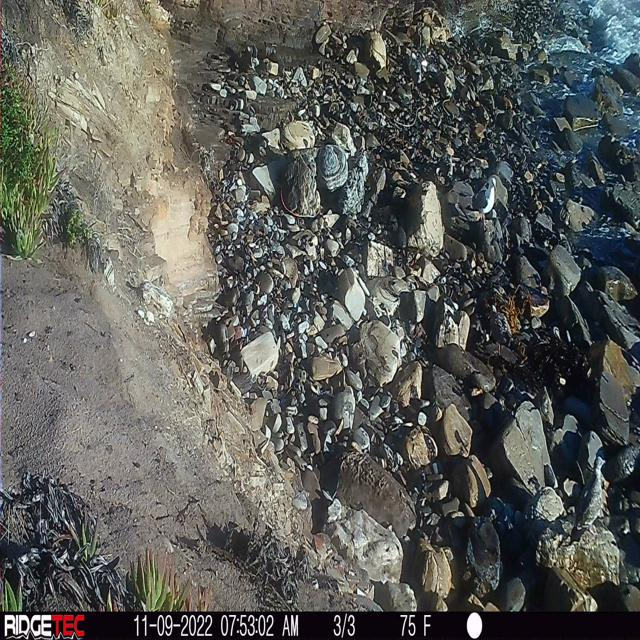bird: (562, 428, 612, 544)
